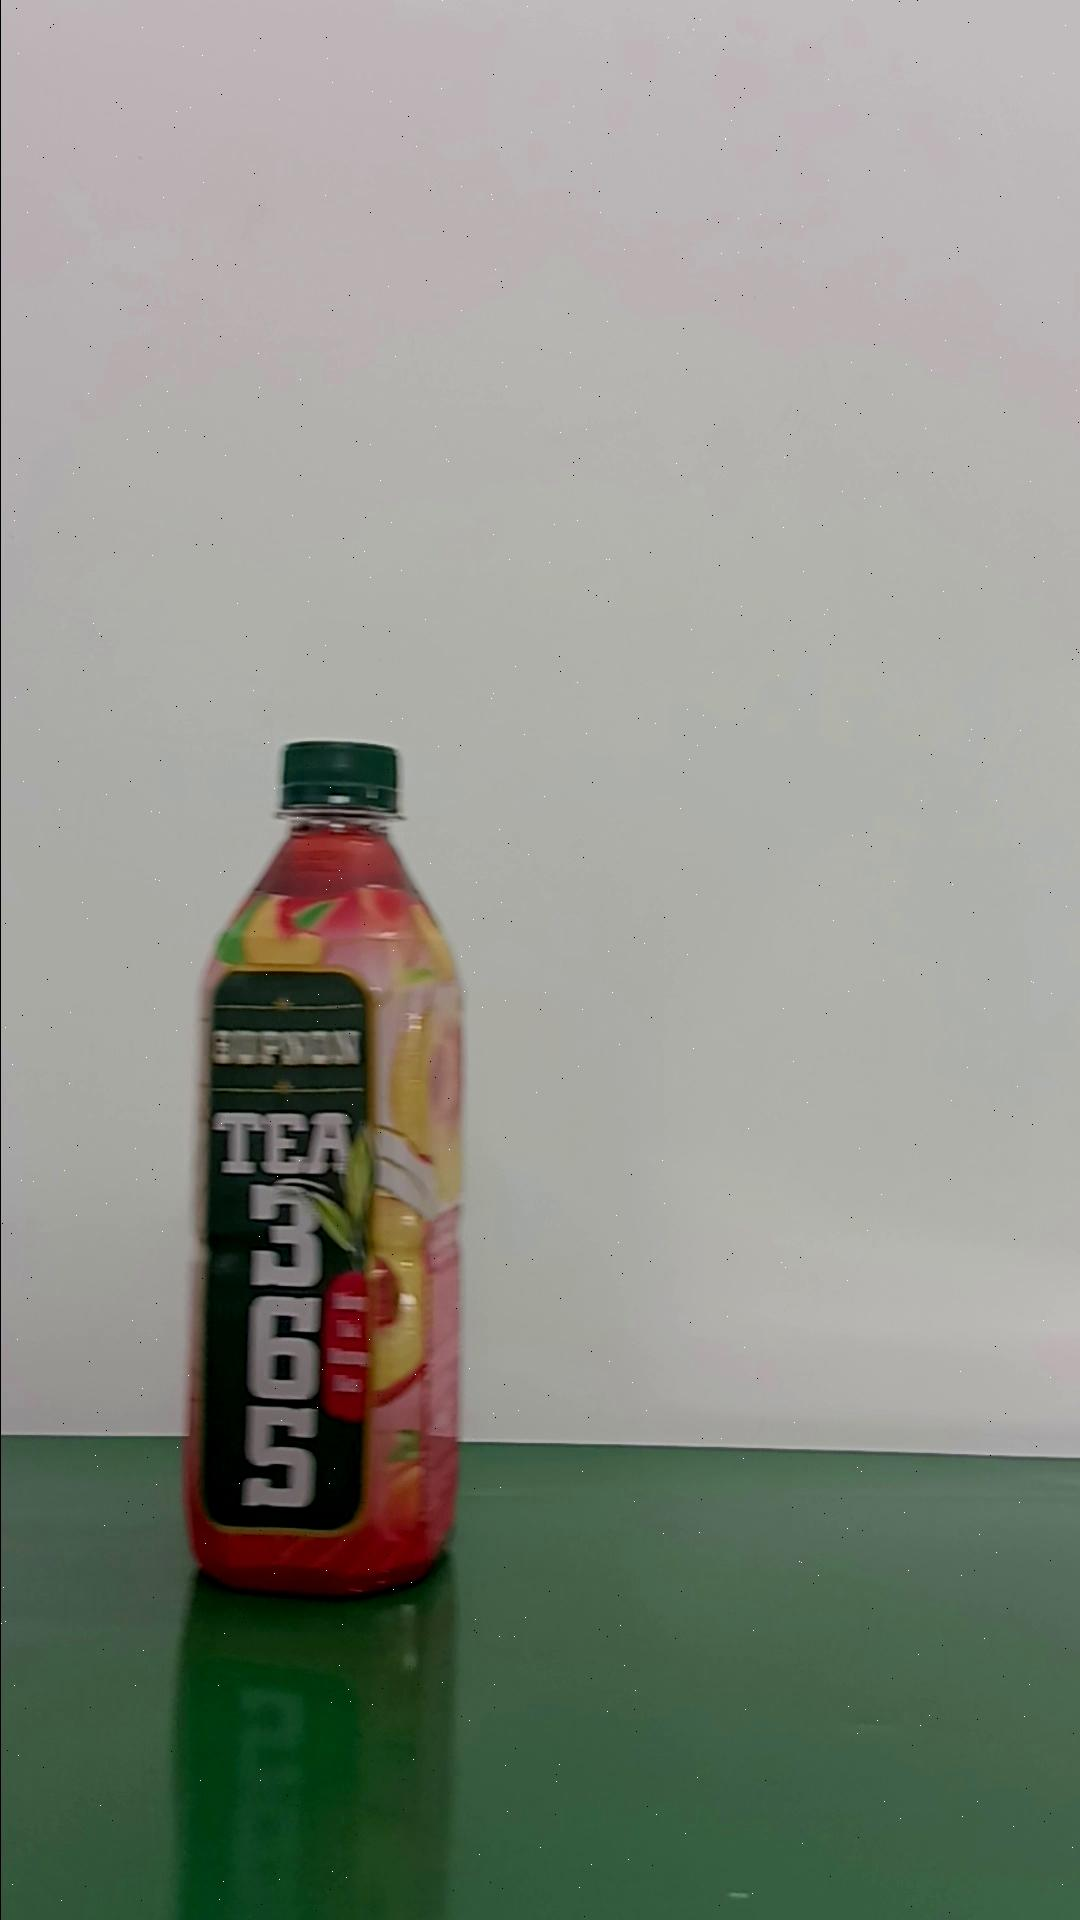khong loi: (179, 737, 468, 1597)
